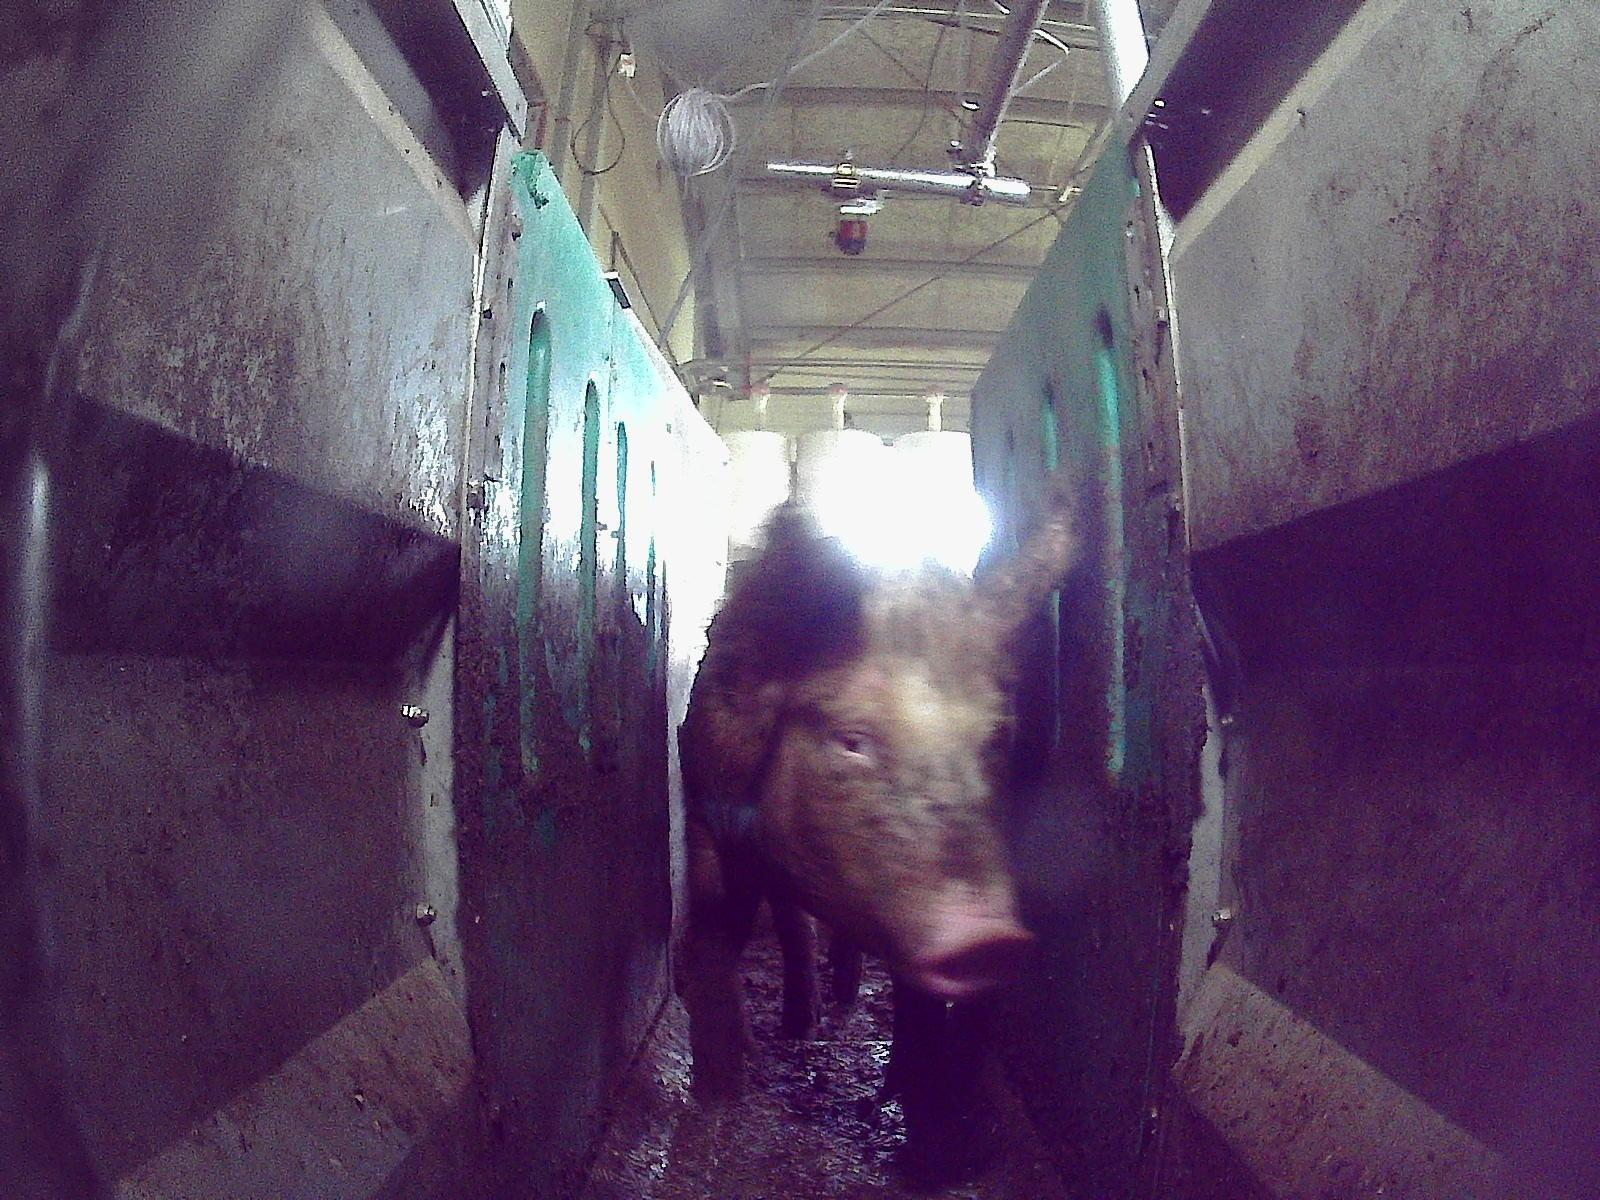Face: (773, 608, 1036, 998)
